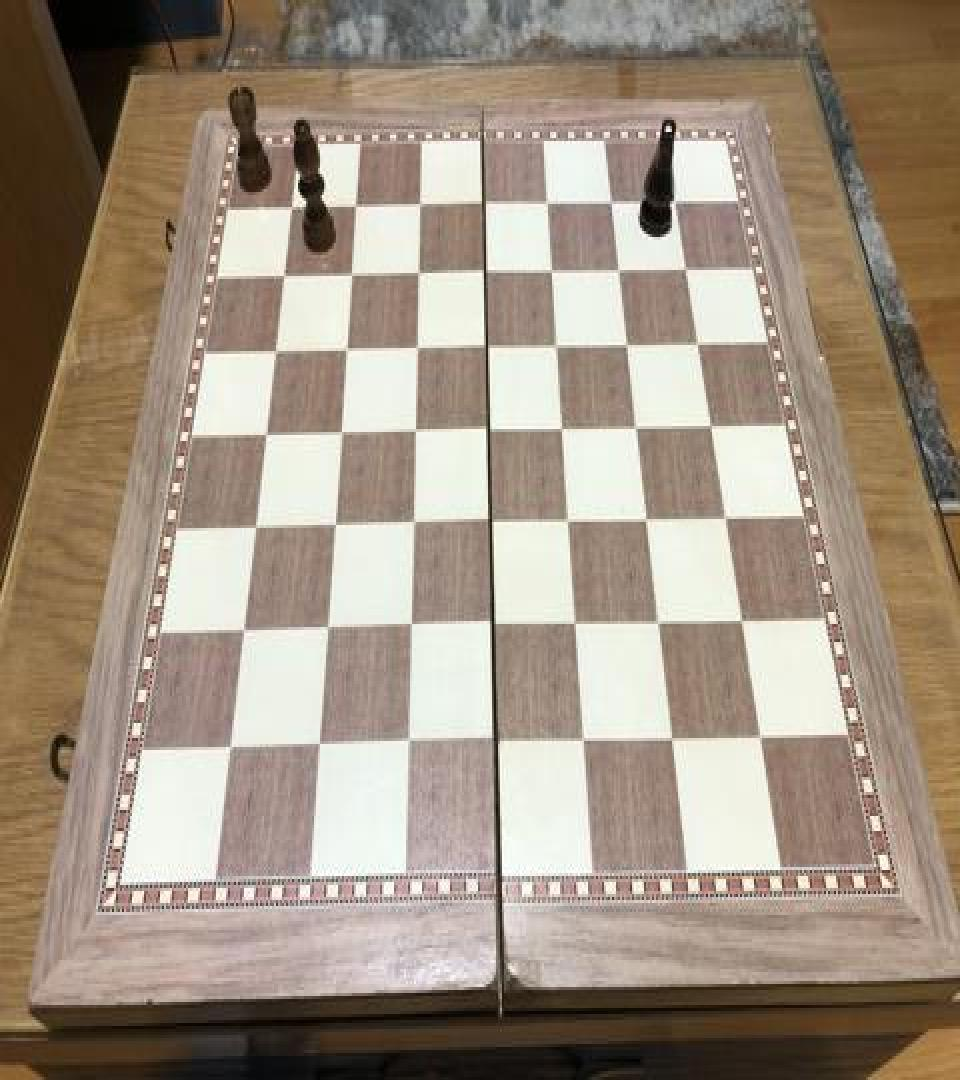xcorner: (316, 610, 340, 647), (663, 182, 687, 218), (600, 183, 624, 219), (537, 184, 561, 220), (474, 186, 498, 222), (347, 189, 371, 225), (283, 190, 307, 226), (674, 249, 698, 285), (608, 250, 632, 286), (542, 252, 566, 288), (475, 254, 499, 290), (409, 255, 433, 291), (342, 256, 366, 292), (686, 322, 710, 358), (616, 324, 640, 360), (547, 327, 571, 363), (407, 330, 431, 366), (336, 332, 360, 368), (266, 333, 290, 369), (699, 405, 723, 441), (625, 406, 649, 442), (552, 408, 576, 444), (478, 411, 502, 447), (330, 416, 354, 452), (256, 417, 280, 453), (713, 495, 737, 531), (636, 498, 660, 534), (558, 501, 582, 537), (480, 502, 504, 538), (402, 506, 426, 542), (323, 507, 347, 543), (245, 510, 269, 546), (729, 598, 753, 634), (647, 600, 671, 636), (565, 603, 589, 639), (482, 606, 506, 642), (399, 609, 423, 645), (232, 614, 256, 650), (748, 714, 772, 750), (660, 717, 684, 753), (572, 720, 596, 756), (484, 723, 508, 759), (396, 726, 420, 762), (307, 729, 331, 765), (218, 732, 242, 768), (410, 188, 434, 223), (275, 260, 299, 295), (477, 329, 501, 364), (404, 413, 428, 448)
